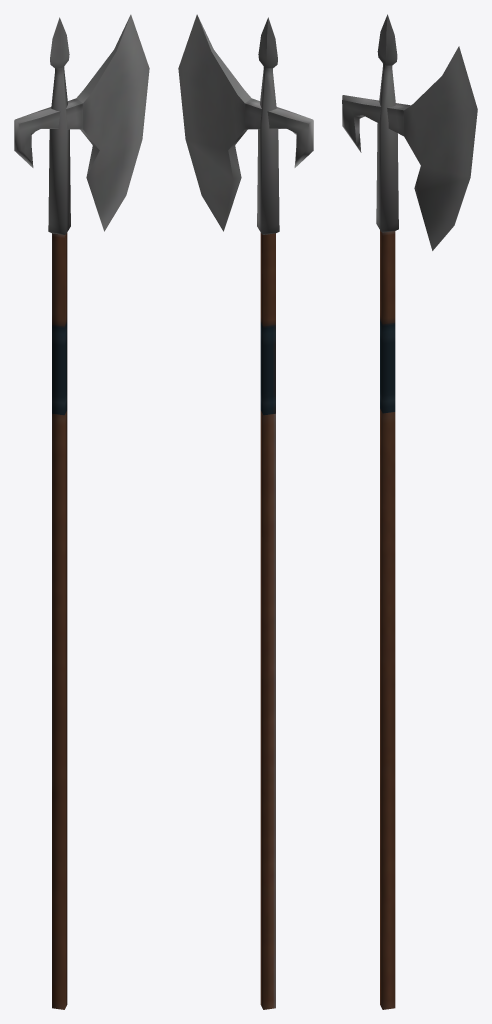
The model's file is BigAxe.fbx.
3 views of the same model, side by side, from view 1: azimuth 30°, elevation 25°; view 2: azimuth 150°, elevation 25°; view 3: azimuth 330°, elevation 25° (orthographic).
Visible parts, largest first — view 1: LongAxe.001; view 2: LongAxe.001; view 3: LongAxe.001.
Part boxes in pixels (x1,y1,x2,y2): LongAxe.001: (14,14,149,1009); LongAxe.001: (178,14,313,1009); LongAxe.001: (342,14,477,1009).
Bounding box in the file's own units: 31.05 × 217 × 5.3.
